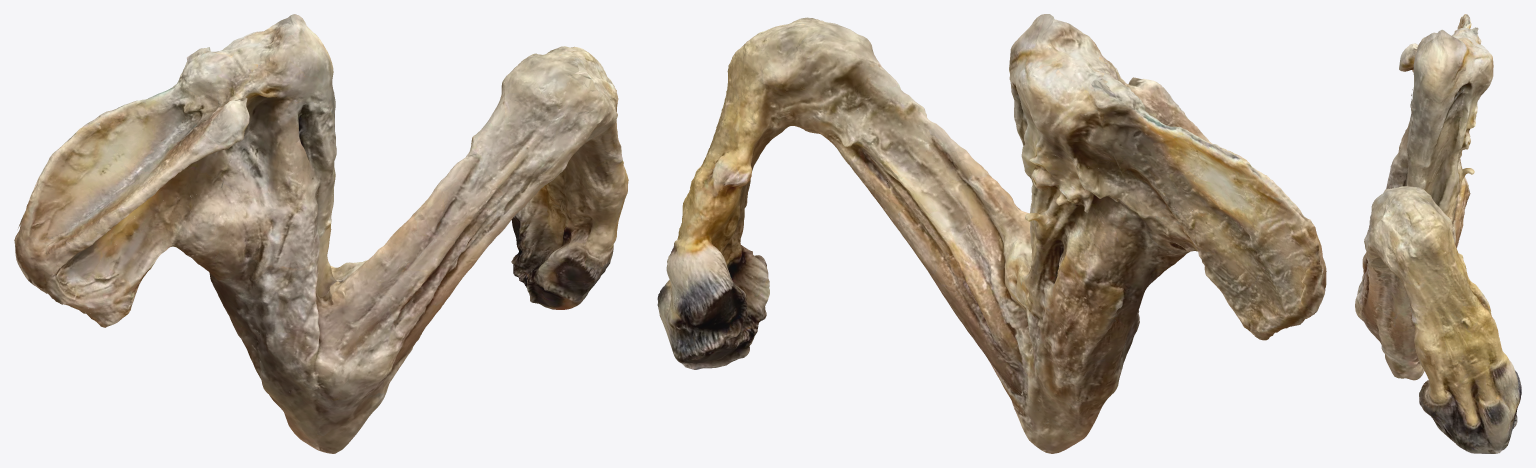
Rendered from dog-forelimb-muscles.glb.
3 views of the same model, side by side, from view 1: azimuth 30°, elevation 25°; view 2: azimuth 150°, elevation 25°; view 3: azimuth 270°, elevation 25° (orthographic). The views are drawn at different scales.
Parts seen in each view (by area): view 1: Object_4; view 2: Object_4; view 3: Object_4.
Boxes of the visible parts, x1,y1,x2,y2 form: Object_4: (14,14,628,453); Object_4: (657,14,1326,453); Object_4: (1355,14,1521,453).
Size of the model in its own units: 0.2407 by 0.1637 by 0.072.
3 materials, 3 textured.
